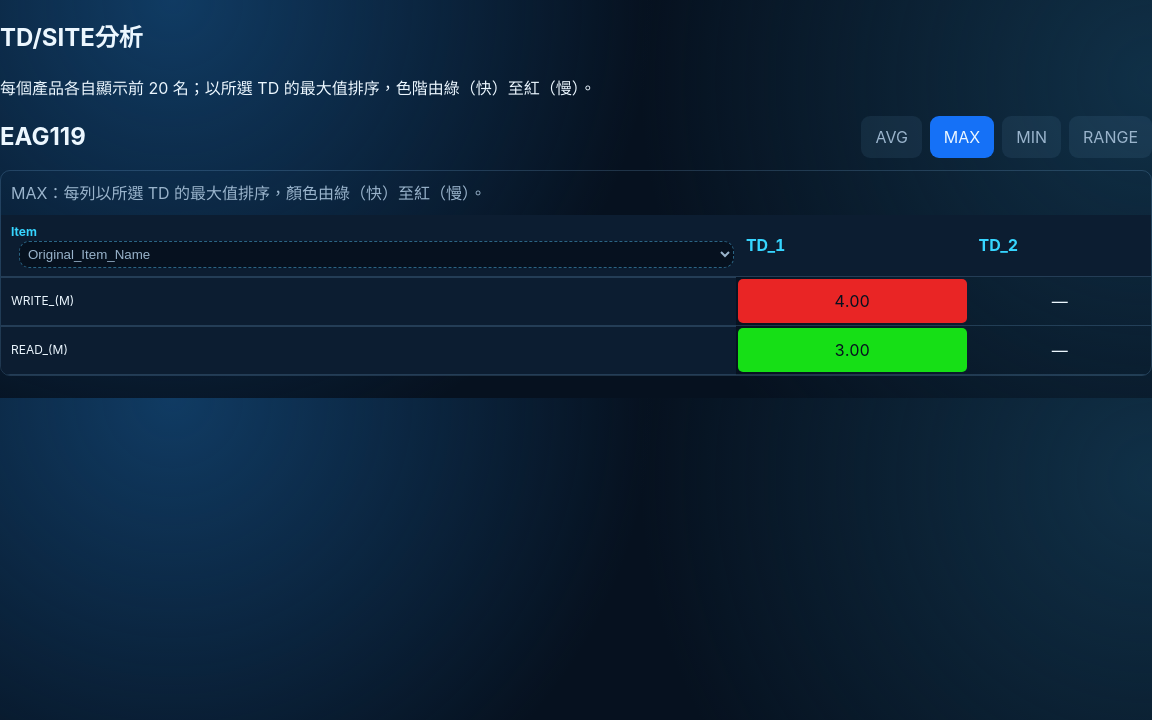
TdAnalysisTab › lists every source Item and TD seconds in the detail dialog
Step 1. Select "Mode" in the dropdown named "Item 顯示欄位" → [376, 254], box 19,241 -> 734,268
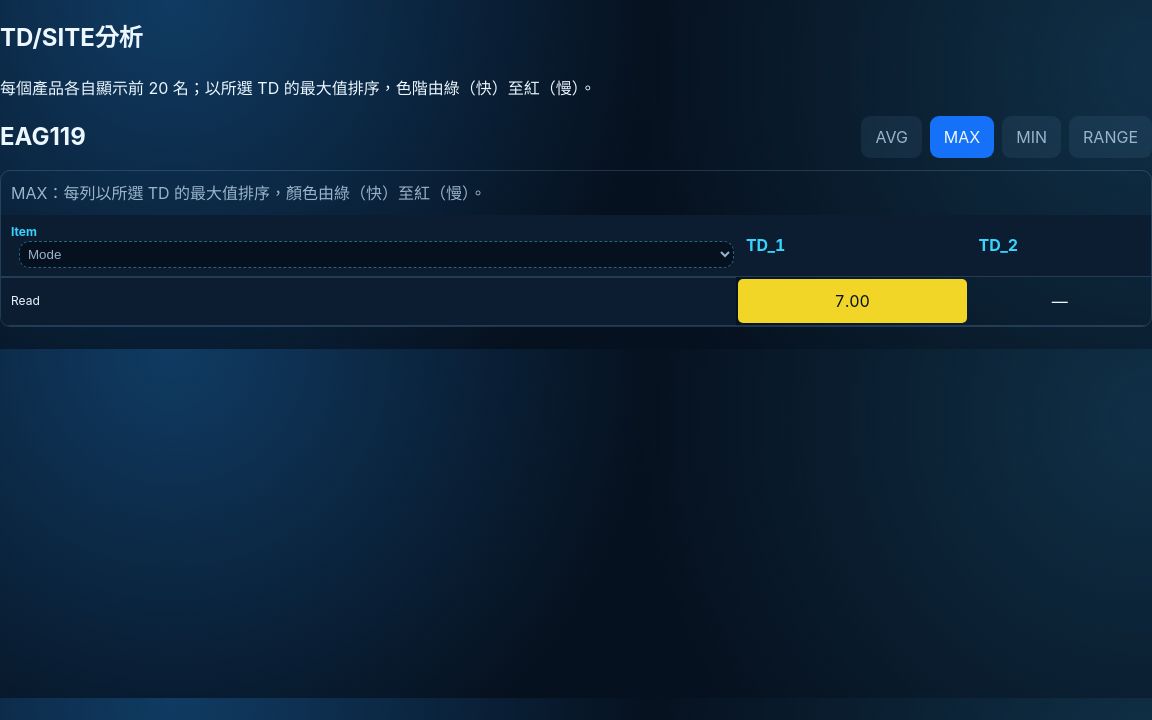
Step 2. Click the button "7.00" → [852, 301], box 738,279 -> 967,323
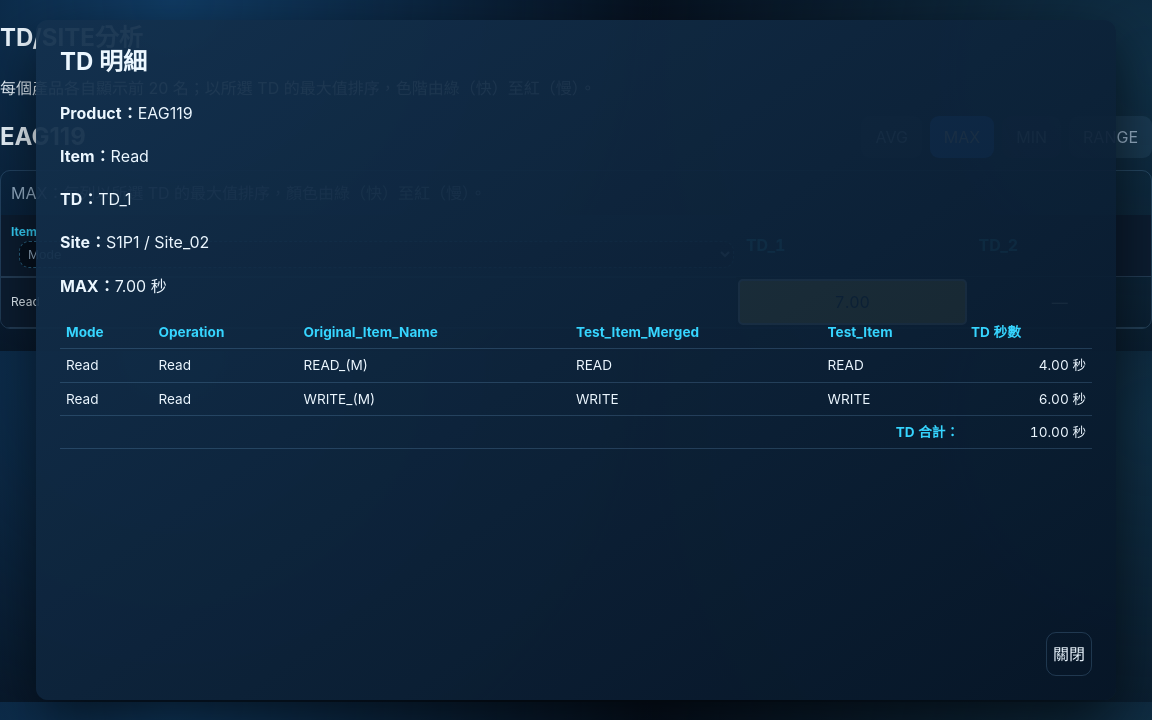
Now the dialog "TD 明細" shows "READ_(M)", box 304,357 -> 368,373
Now the dialog "TD 明細" shows "WRITE_(M)", box 304,391 -> 375,407
Now the dialog "TD 明細" shows "4.00 秒"
